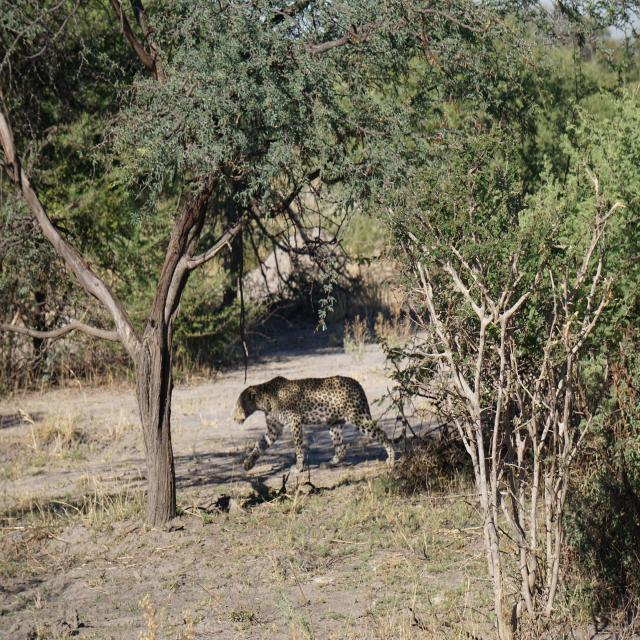Leopard: (232, 379, 401, 468)
